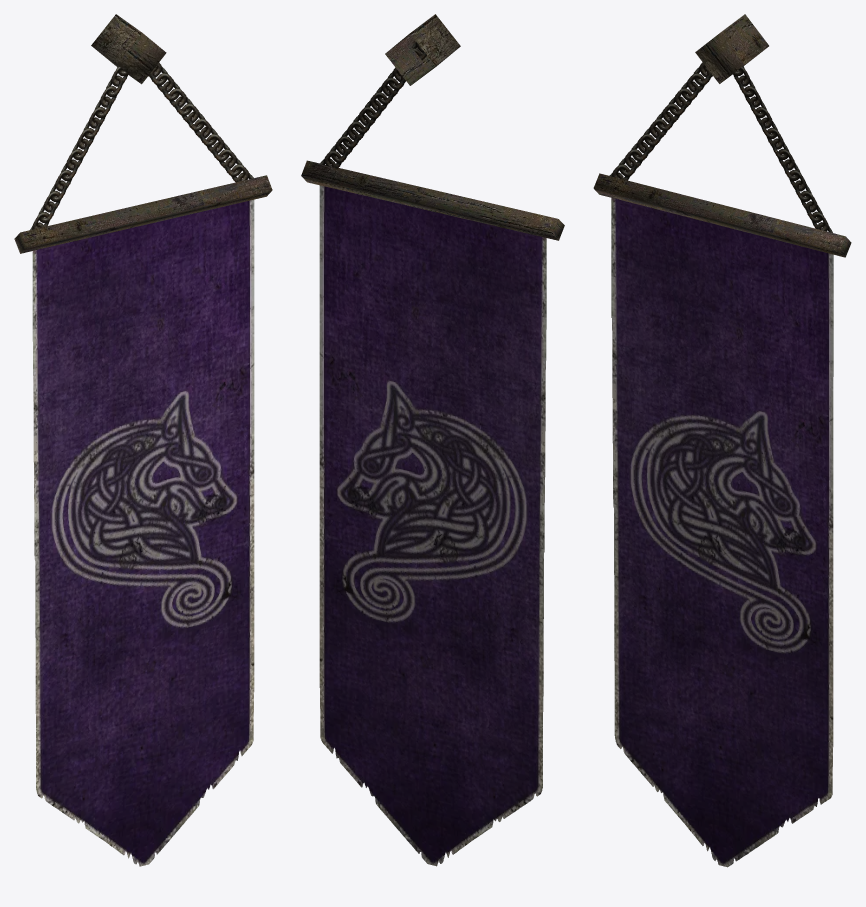
File: KM_VOB_WOLFSDEN_BANNER_01.glb
3 renders of one model, left to right at view 1: azimuth 30°, elevation 25°; view 2: azimuth 150°, elevation 25°; view 3: azimuth 330°, elevation 25°, orthographic. The views are drawn at different scales.
Visible parts, largest first — view 1: Mesh; view 2: Mesh; view 3: Mesh.
Part boxes in pixels (x1,y1,x2,y2): Mesh: (14,14,272,866); Mesh: (301,14,564,866); Mesh: (593,14,851,867).
Size of the model in its own units: 1.24 by 4.01 by 0.2704.
3 materials, 3 textured.
